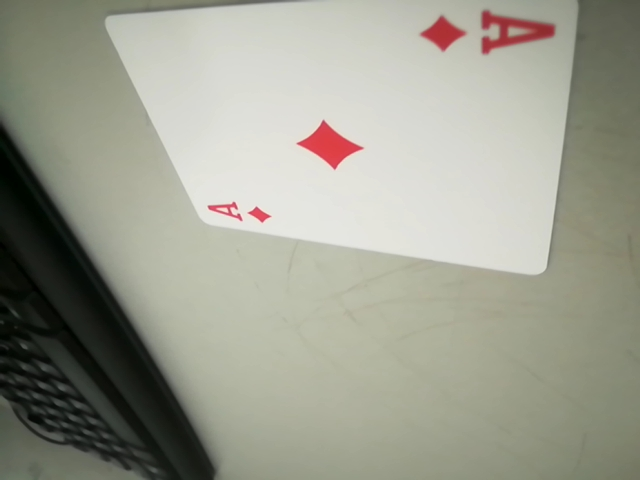fk a: (418, 4, 560, 60), (202, 193, 280, 227)
